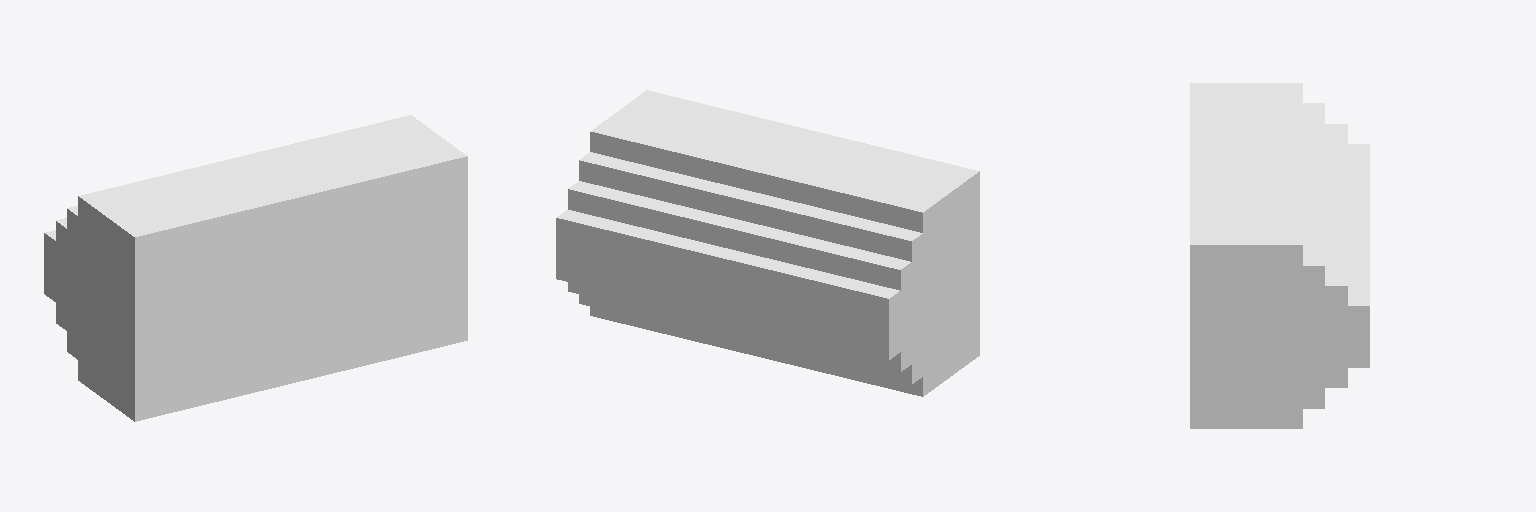
The model's file is greenhouse.obj.
3 views of the same model, side by side, from view 1: azimuth 30°, elevation 25°; view 2: azimuth 150°, elevation 25°; view 3: azimuth 270°, elevation 25° (orthographic).
Visible parts, largest first — view 1: object 1; view 2: object 1; view 3: object 1.
Boxes of the visible parts, x1=… form: object 1: x1=44, y1=115, x2=467, y2=421; object 1: x1=556, y1=90, x2=979, y2=396; object 1: x1=1190, y1=83, x2=1369, y2=428.
Bounding box in the file's own units: 1.7 × 0.9 × 0.8.